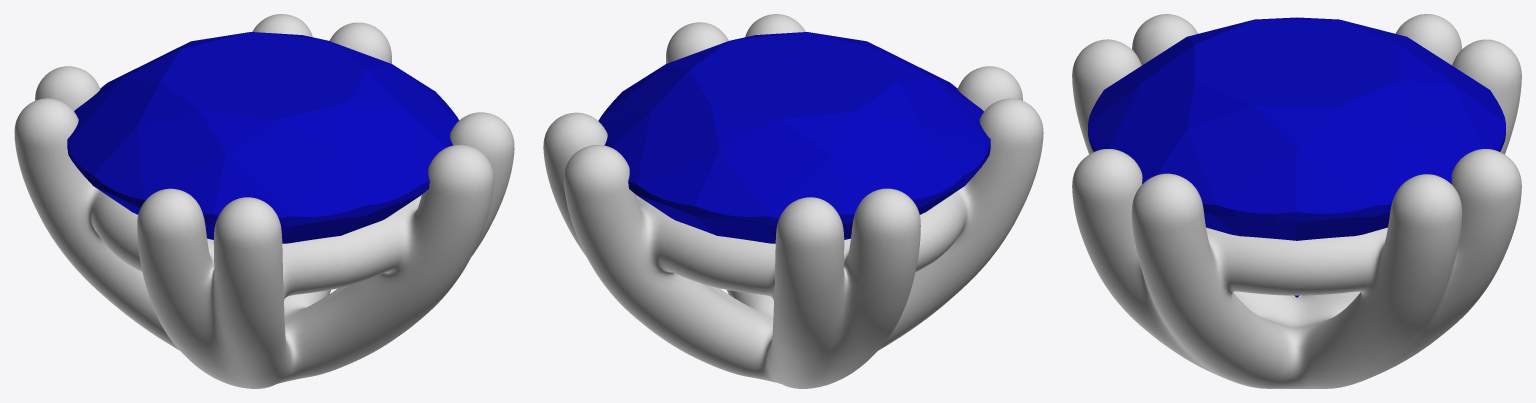
The model's file is Round.glb.
The picture shows the model from 3 angles, left to right: view 1: azimuth 30°, elevation 25°; view 2: azimuth 150°, elevation 25°; view 3: azimuth 270°, elevation 25°; orthographic projection. The views are drawn at different scales.
Visible parts, largest first — view 1: /GSMOD388300- DOUBLE PRONG_ROUND_IJ.3dm, Diamond_Round; view 2: /GSMOD388300- DOUBLE PRONG_ROUND_IJ.3dm, Diamond_Round; view 3: /GSMOD388300- DOUBLE PRONG_ROUND_IJ.3dm, Diamond_Round.
Part boxes in pixels (box(x1,y1,x2,y2)): /GSMOD388300- DOUBLE PRONG_ROUND_IJ.3dm: box(14, 14, 514, 388); Diamond_Round: box(67, 32, 458, 243); /GSMOD388300- DOUBLE PRONG_ROUND_IJ.3dm: box(543, 14, 1043, 388); Diamond_Round: box(598, 32, 990, 243); /GSMOD388300- DOUBLE PRONG_ROUND_IJ.3dm: box(1072, 14, 1521, 388); Diamond_Round: box(1088, 17, 1505, 297).
Size of the model in its own units: 8.42 by 6.52 by 8.42.
